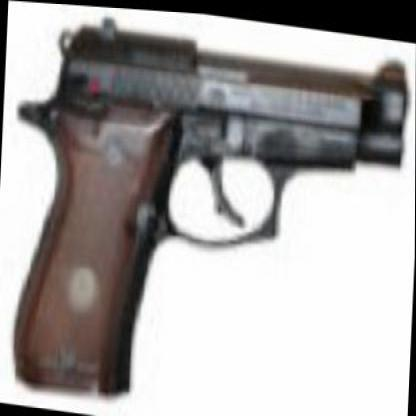pistol: (0, 0, 407, 415)
